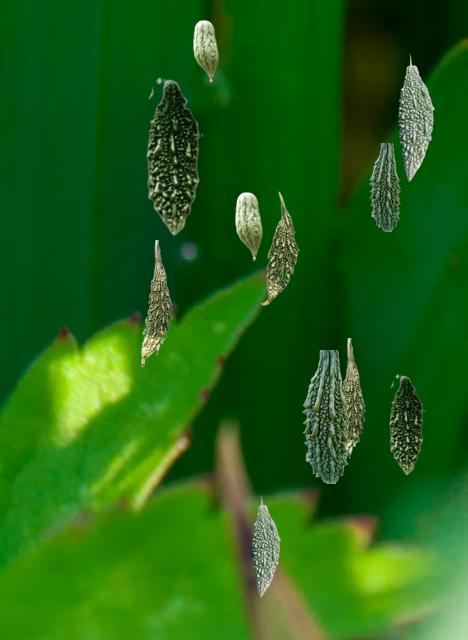ampalaya: (146, 77, 202, 235), (302, 350, 348, 482), (397, 54, 433, 180), (261, 191, 298, 304), (141, 240, 171, 366), (389, 374, 424, 474), (251, 496, 279, 596), (369, 143, 399, 230), (343, 338, 364, 459), (235, 192, 261, 260), (193, 20, 217, 82)
